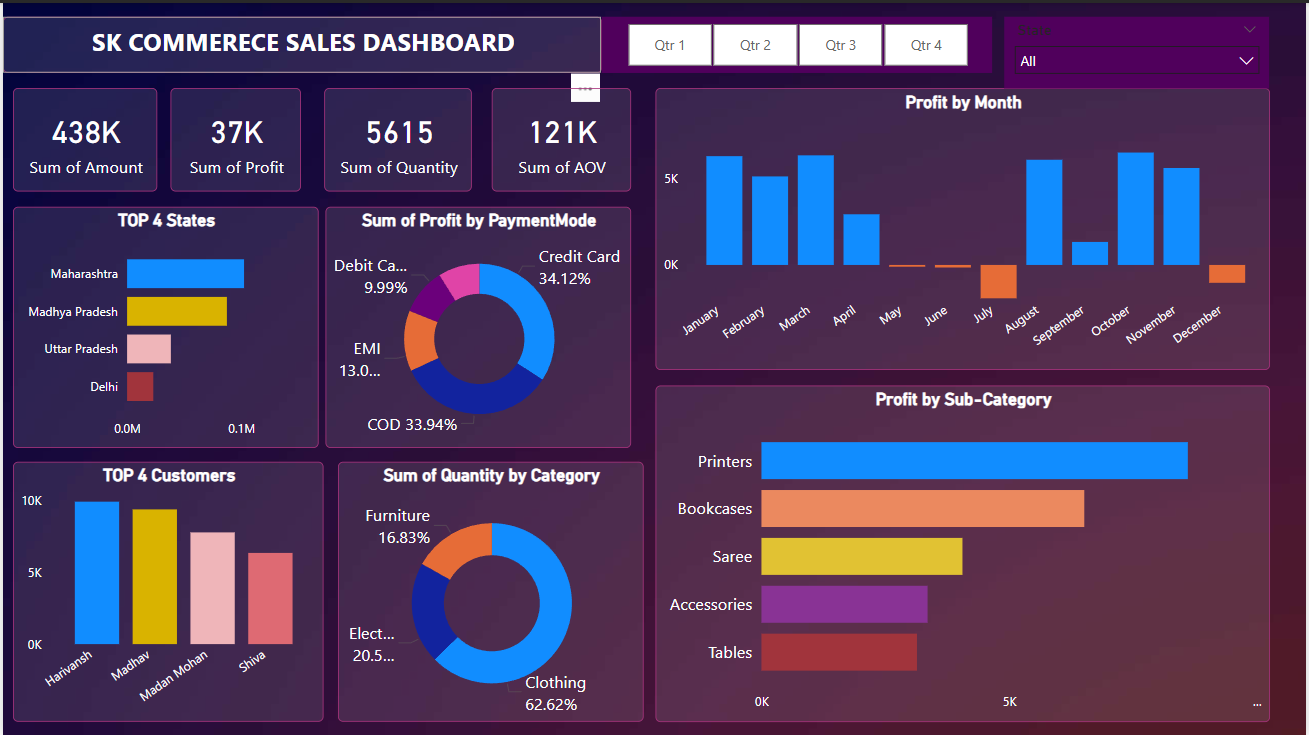

This screenshot's page, from the dashboard's own definition file:
{"tool":"powerbi","page":{"name":"Page 1","canvas":[1280,720],"ordinal":0},"visuals":[{"type":"textbox","box":[0,13.3,588.3,55],"z":0},{"type":"columnChart","title":"Profit by Month","fields":{"Y":["Details.Profit"],"Category":["Orders.Order Date.Variation.Date Hierarchy.Month"]},"box":[640,83.3,603.3,276.7],"z":1000},{"type":"barChart","title":"Profit by Sub-Category","fields":{"Category":["Details.Sub-Category"],"Y":["Details.Profit"]},"box":[640,375,603.3,330],"z":2000},{"type":"donutChart","fields":{"Category":["Details.Category"],"Y":["Details.Quantity"]},"box":[328.3,450,300,255],"z":3000},{"type":"donutChart","fields":{"Y":["Details.Profit"],"Category":["Details.PaymentMode"]},"box":[316.7,200,300,236.7],"z":4000},{"type":"card","fields":{"Values":["Details.Amount"]},"box":[10,83.3,141.7,101.7],"z":5000},{"type":"card","fields":{"Values":["Details.Quantity"]},"box":[315,83.3,145,101.7],"z":6000},{"type":"card","fields":{"Values":["Details.Profit"]},"box":[165,83.3,128.3,101.7],"z":7000},{"type":"card","fields":{"Values":["Details.AOV"]},"box":[480,83.3,136.7,101.7],"z":8000},{"type":"barChart","title":"TOP 4 States","fields":{"Category":["Orders.State"],"Y":["Details.Amount"]},"box":[10,200,300,236.7],"z":9000},{"type":"columnChart","title":"TOP 4 Customers","fields":{"Category":["Orders.Customer Name"],"Y":["Details.Amount"]},"box":[10,450,305,255],"z":10000},{"type":"slicer","fields":{"Values":["Orders.Order Date.Variation.Date Hierarchy.Quarter"]},"box":[588.3,13.3,383.3,55],"z":11000},{"type":"slicer","fields":{"Values":["Orders.State"]},"box":[983.3,13.3,260,70],"z":12000}]}

Visuals, with their boxes in screenshot pixels (x1, y1, x2, y2), scaled from the page's 1280x720 canvas onto the 1309x735 screenshot:
textbox: select_region(0, 14, 602, 70)
"Profit by Month" columnChart: select_region(654, 85, 1271, 368)
"Profit by Sub-Category" barChart: select_region(654, 383, 1271, 720)
donutChart - Details.Category x Details.Quantity: select_region(336, 459, 643, 720)
donutChart - Details.Profit x Details.PaymentMode: select_region(324, 204, 631, 446)
card - Details.Amount: select_region(10, 85, 155, 189)
card - Details.Quantity: select_region(322, 85, 470, 189)
card - Details.Profit: select_region(169, 85, 300, 189)
card - Details.AOV: select_region(491, 85, 631, 189)
"TOP 4 States" barChart: select_region(10, 204, 317, 446)
"TOP 4 Customers" columnChart: select_region(10, 459, 322, 720)
slicer - Orders.Order Date.Variation.Date Hierarchy.Quarter: select_region(602, 14, 994, 70)
slicer - Orders.State: select_region(1006, 14, 1271, 85)
